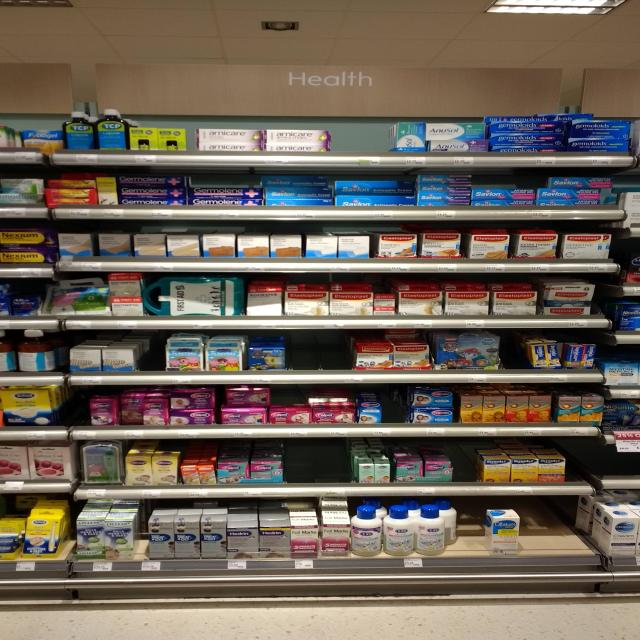void: (528, 501, 578, 569), (319, 439, 356, 499), (359, 109, 395, 167), (323, 331, 353, 385), (289, 439, 315, 499), (381, 383, 409, 438), (460, 506, 484, 570), (292, 332, 320, 384), (333, 112, 360, 165), (578, 446, 604, 497), (60, 392, 88, 439), (610, 445, 636, 490), (458, 450, 478, 496)
